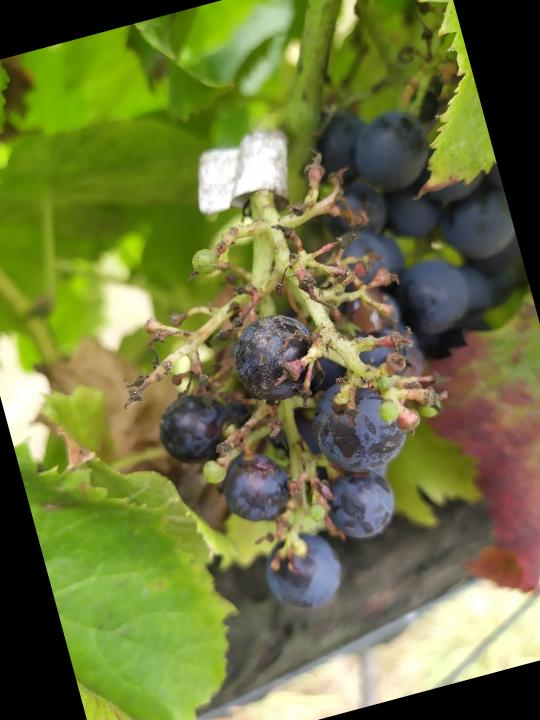grape: (68, 129, 503, 647)
